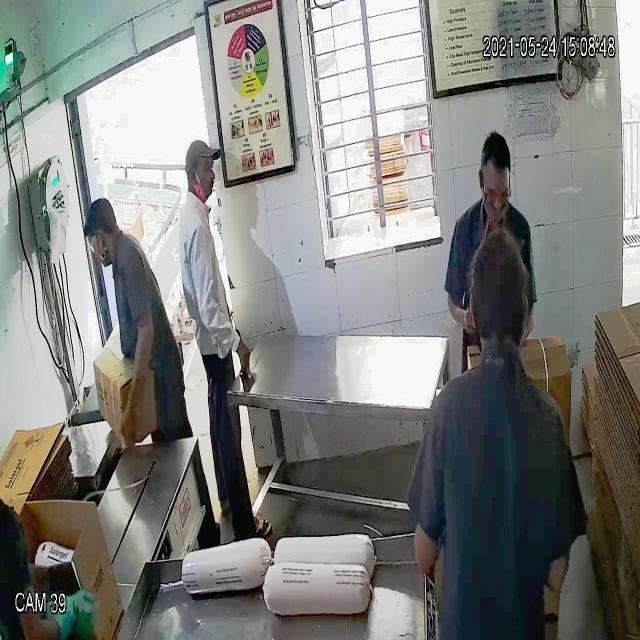glasses: (480, 174, 514, 207)
